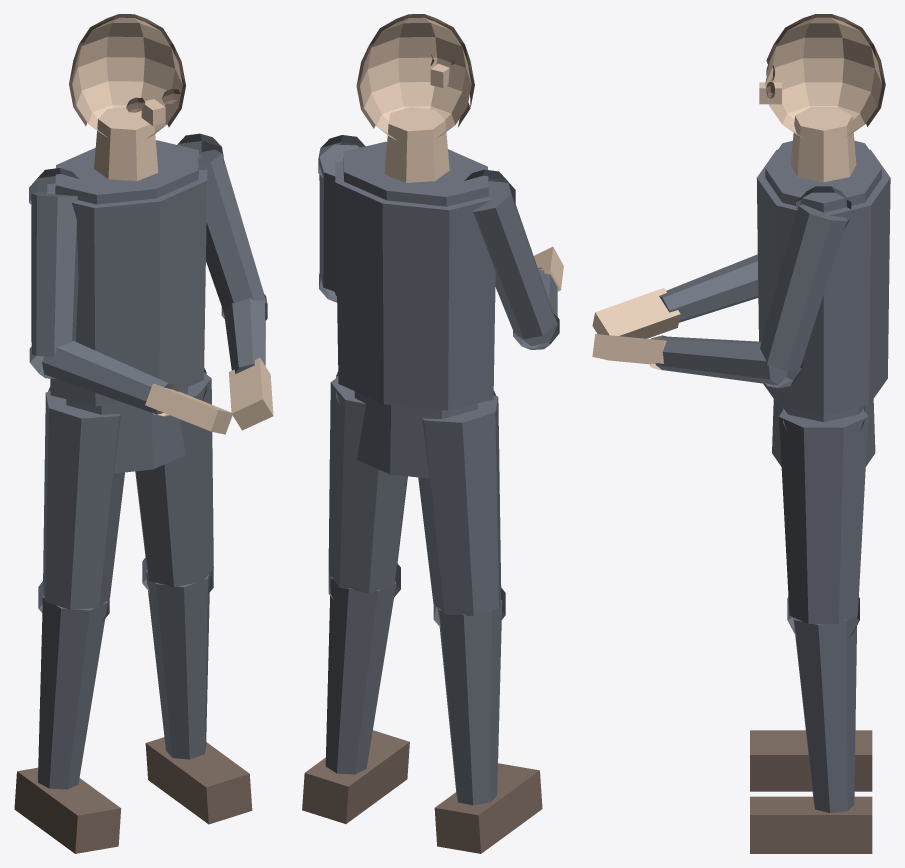
File: low-poly-character-figures-civilian-coat-standing-d311fc0b.glb
The picture shows the model from 3 angles, left to right: view 1: azimuth 30°, elevation 25°; view 2: azimuth 150°, elevation 25°; view 3: azimuth 270°, elevation 25°; orthographic projection.
Parts seen in each view (by area): view 1: civilian-coat-standing; view 2: civilian-coat-standing; view 3: civilian-coat-standing.
Part boxes in pixels (x1,y1,x2,y2): civilian-coat-standing: (14,14,273,853); civilian-coat-standing: (302,14,563,853); civilian-coat-standing: (592,14,890,853).
Bounding box in the file's own units: 0.511 × 1.67 × 0.5667.
